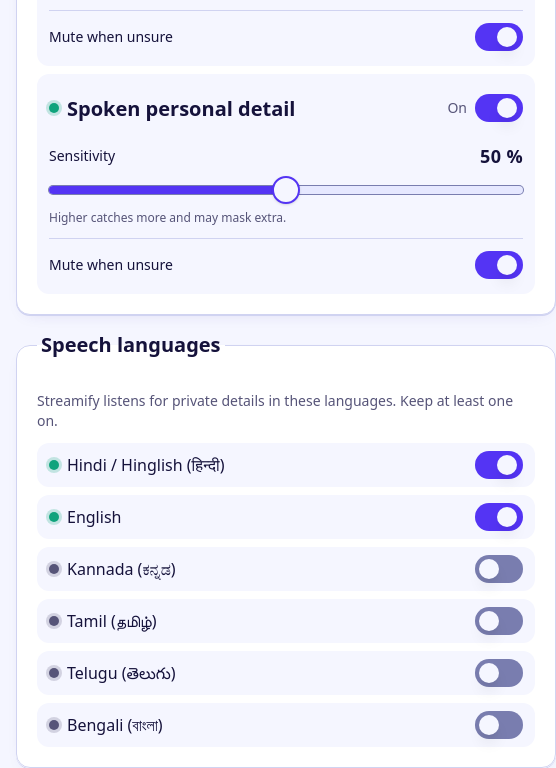
it: audio tab › turning a language on sends one audio.languages patch and keeps it
This screenshot has width=556, height=768.
(page scrolled)
Click the switch named "Kannada" in the row of "Kannada (ಕನ್ನಡ)" at (499, 569), box [475,555,523,583]
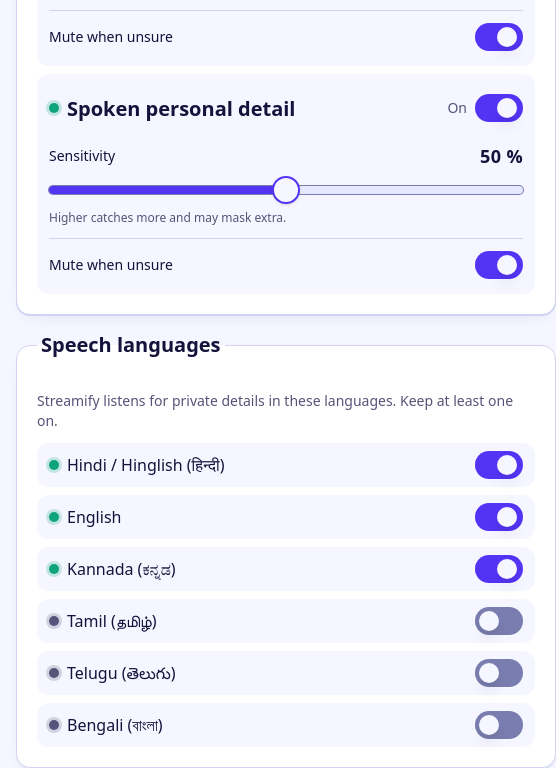
Check: the switch named "Kannada" in the row of "Kannada (ಕನ್ನಡ)" is checked, box [475,555,523,583]
